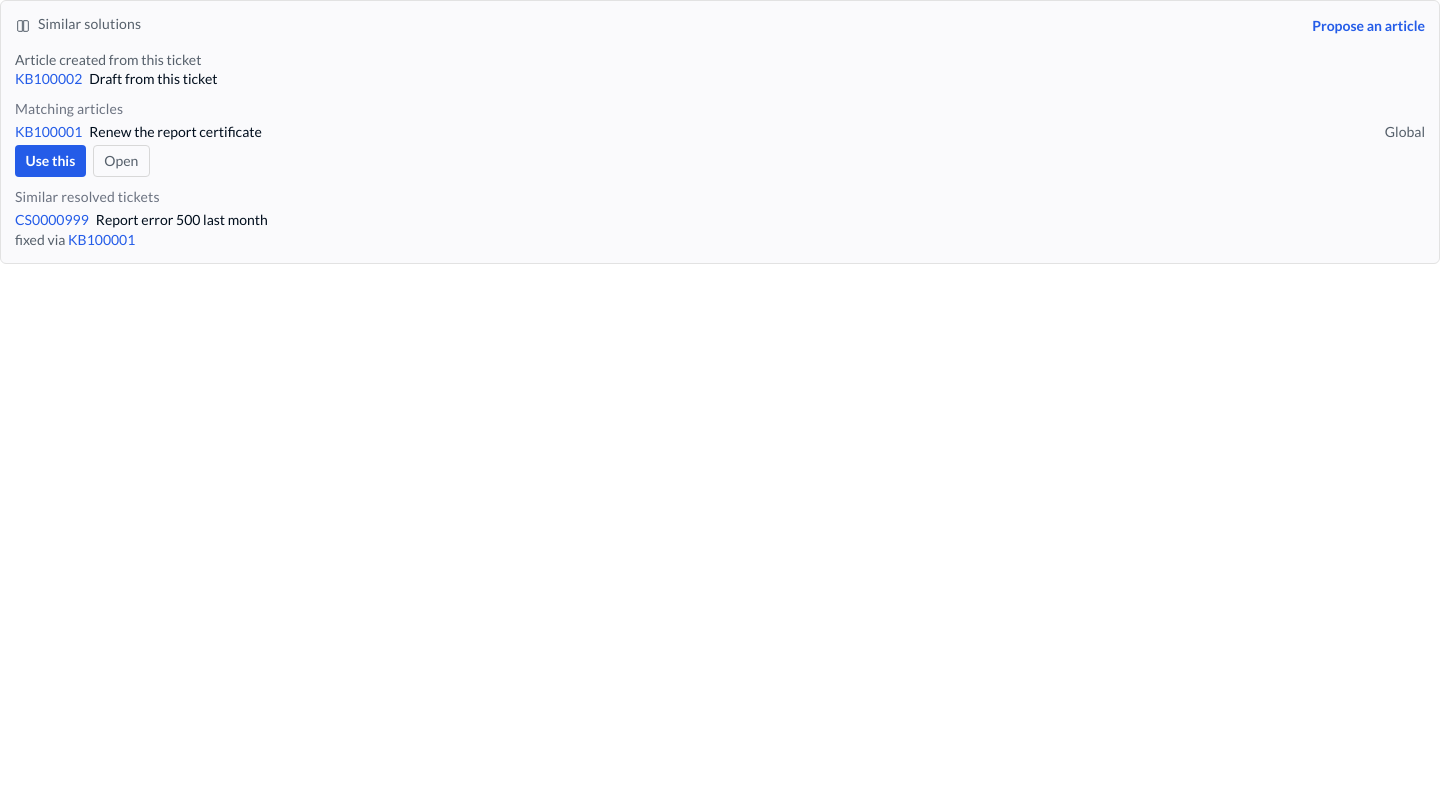
Test: SolutionsRail › renders the matching articles, similar tickets and resolution records, and Use this posts the article id
Expected: the text "Renew the report certificate" is shown, [89,122,262,142]
Expected: the text "Report error 500 last month" is shown, [96,210,268,230]
Click the button with aria-label "Use KB100001" at [50, 161], box [15,145,86,177]
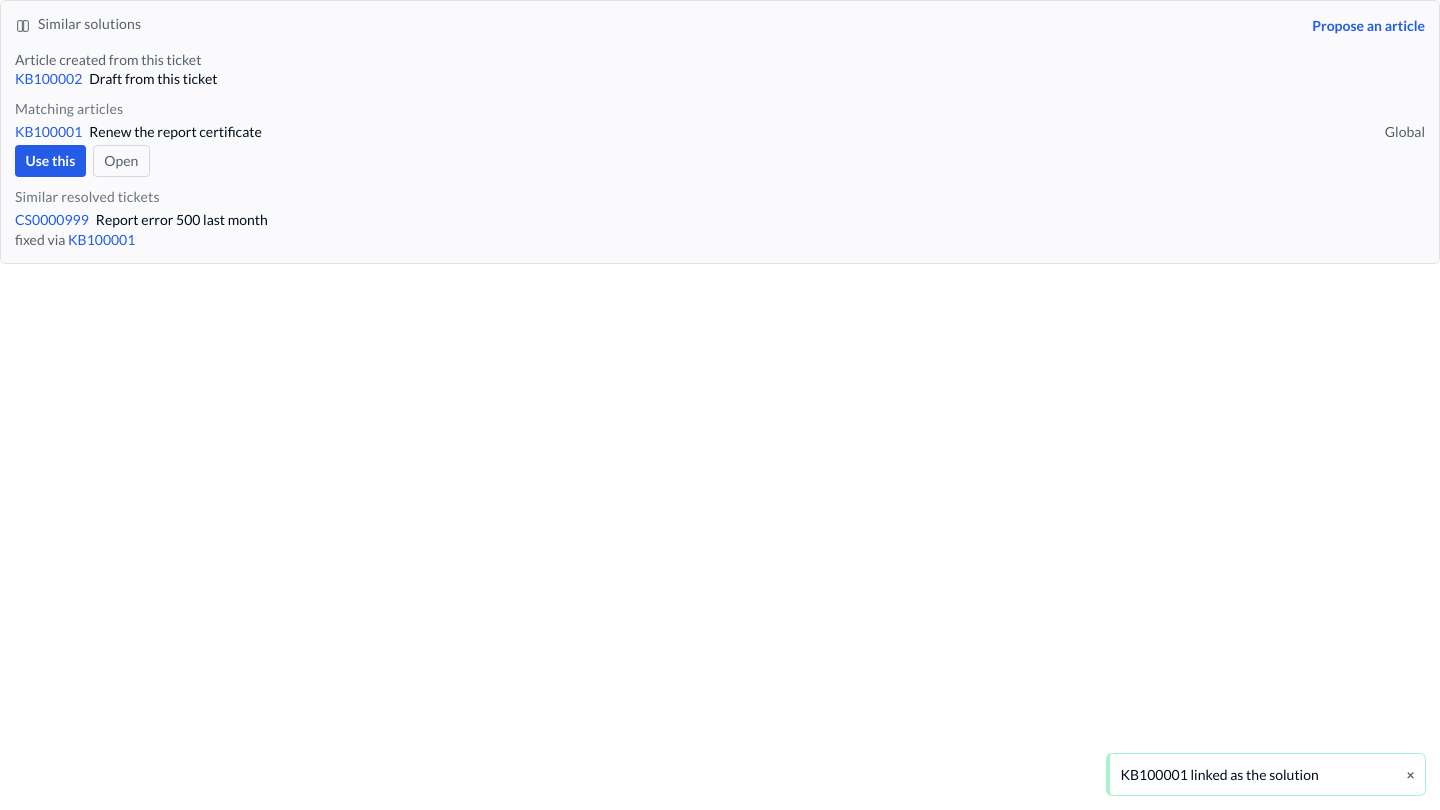
Now the text "KB100001 linked as the solution" is shown, box [1120,765,1319,784]
